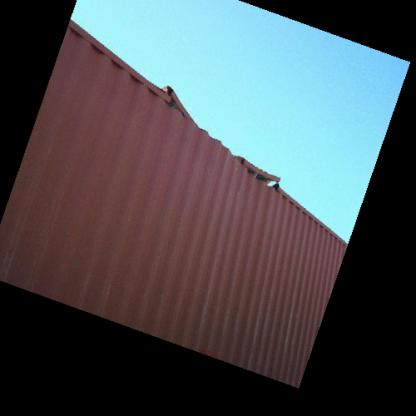Damage: (228, 150, 290, 210), (158, 79, 212, 139)
